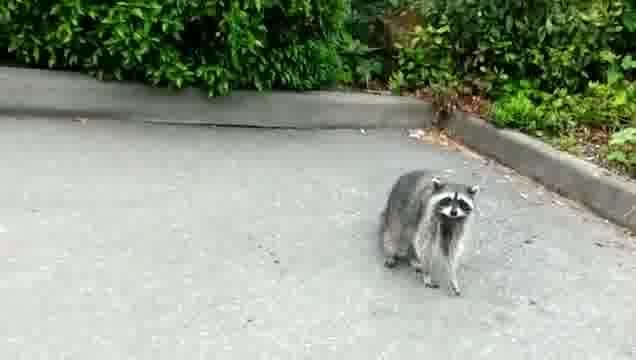raccoon: (377, 164, 481, 298)
